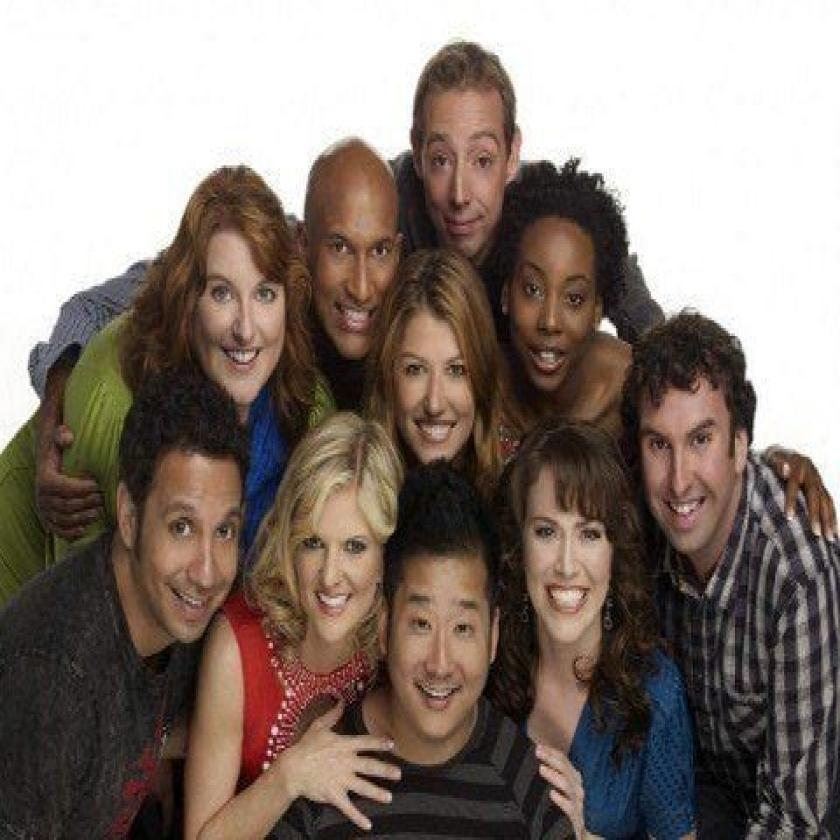Sin_casco: (134, 360, 257, 653), (172, 158, 298, 436), (381, 466, 501, 744), (628, 321, 752, 576), (282, 405, 398, 666), (510, 428, 635, 659), (505, 167, 617, 402), (411, 35, 524, 266), (390, 252, 497, 490), (302, 129, 408, 366)
